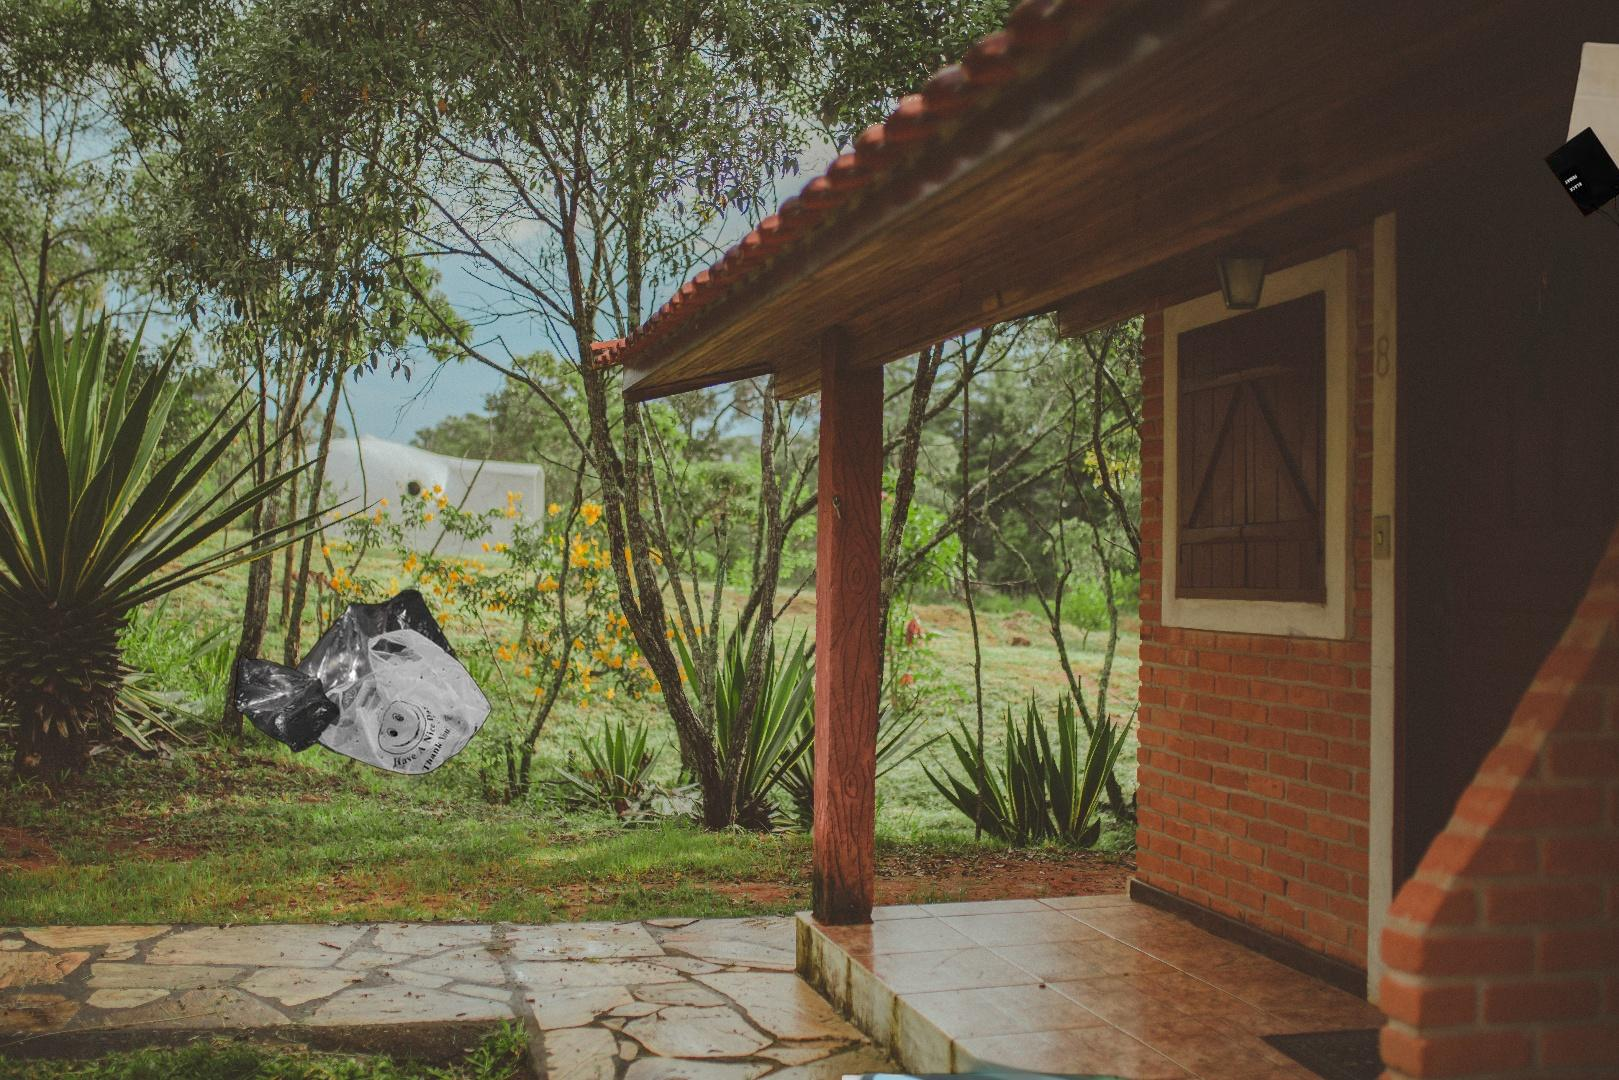paper-bag: (1541, 39, 1619, 233)
penholder: (841, 1041, 1242, 1080)
plastic-bag: (231, 587, 492, 777)
